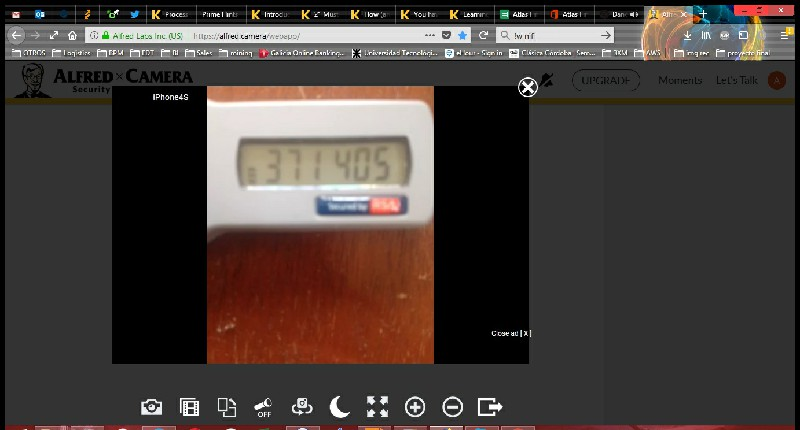display: (243, 143, 401, 186)
